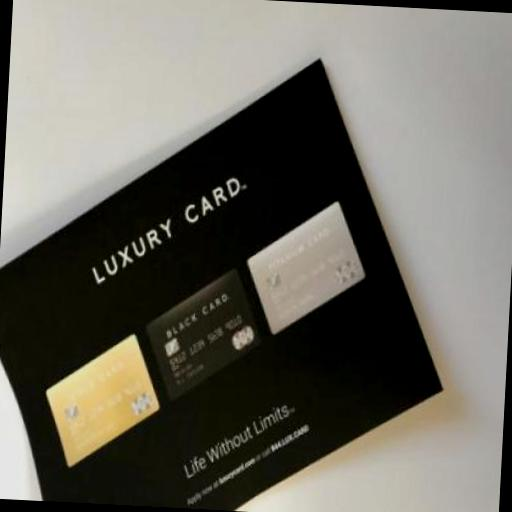paper: (0, 41, 459, 512)
